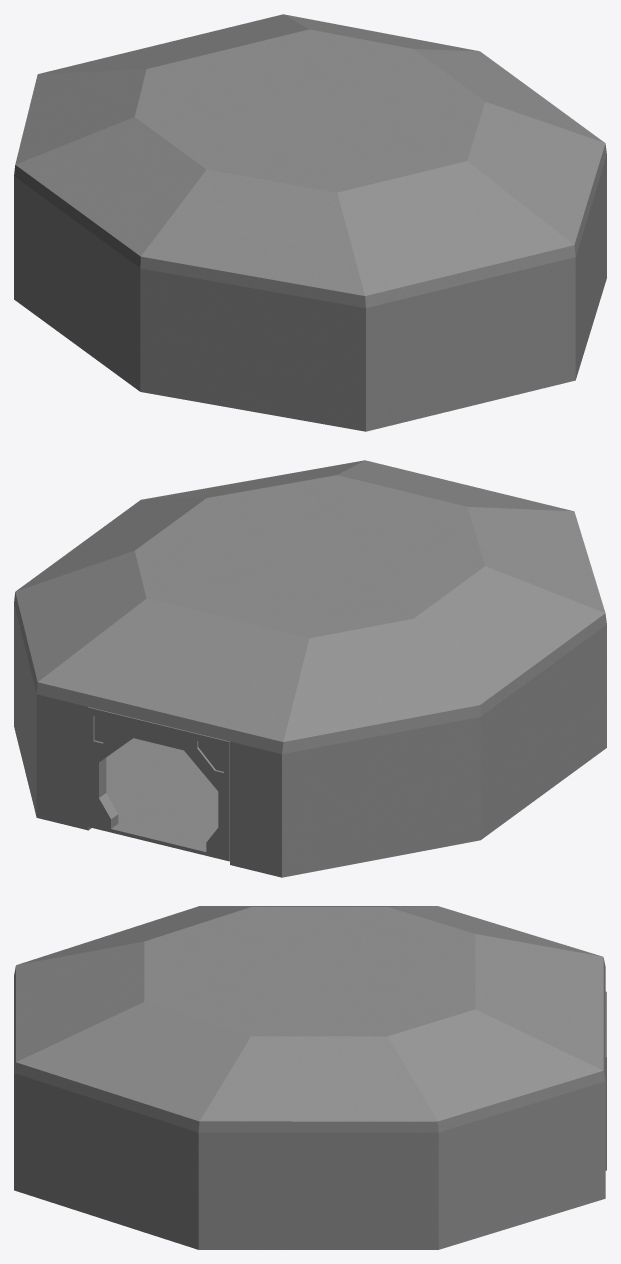
Rendered from Ship_Room_Medbay_001.fbx.
3 renders of one model, top to bottom at view 1: azimuth 30°, elevation 25°; view 2: azimuth 150°, elevation 25°; view 3: azimuth 270°, elevation 25°, orthographic. The views are drawn at different scales.
Visible parts, largest first — view 1: Medbay_WallsCeiling_001; view 2: Medbay_WallsCeiling_001, Medbay_Floor_001, Medbay_Doorway; view 3: Medbay_WallsCeiling_001.
Boxes of the visible parts, bbox=[...] form: Medbay_WallsCeiling_001: bbox=[14, 14, 606, 431]; Medbay_WallsCeiling_001: bbox=[14, 460, 606, 877]; Medbay_Floor_001: bbox=[106, 738, 218, 844]; Medbay_Doorway: bbox=[88, 707, 229, 861]; Medbay_WallsCeiling_001: bbox=[14, 906, 605, 1249].
Bounding box in the file's own units: 1855 × 680 × 2149.
